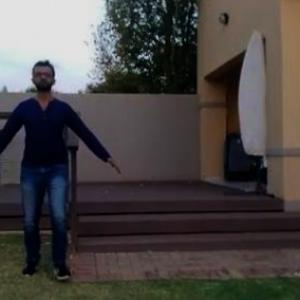land: (0, 63, 128, 282)
